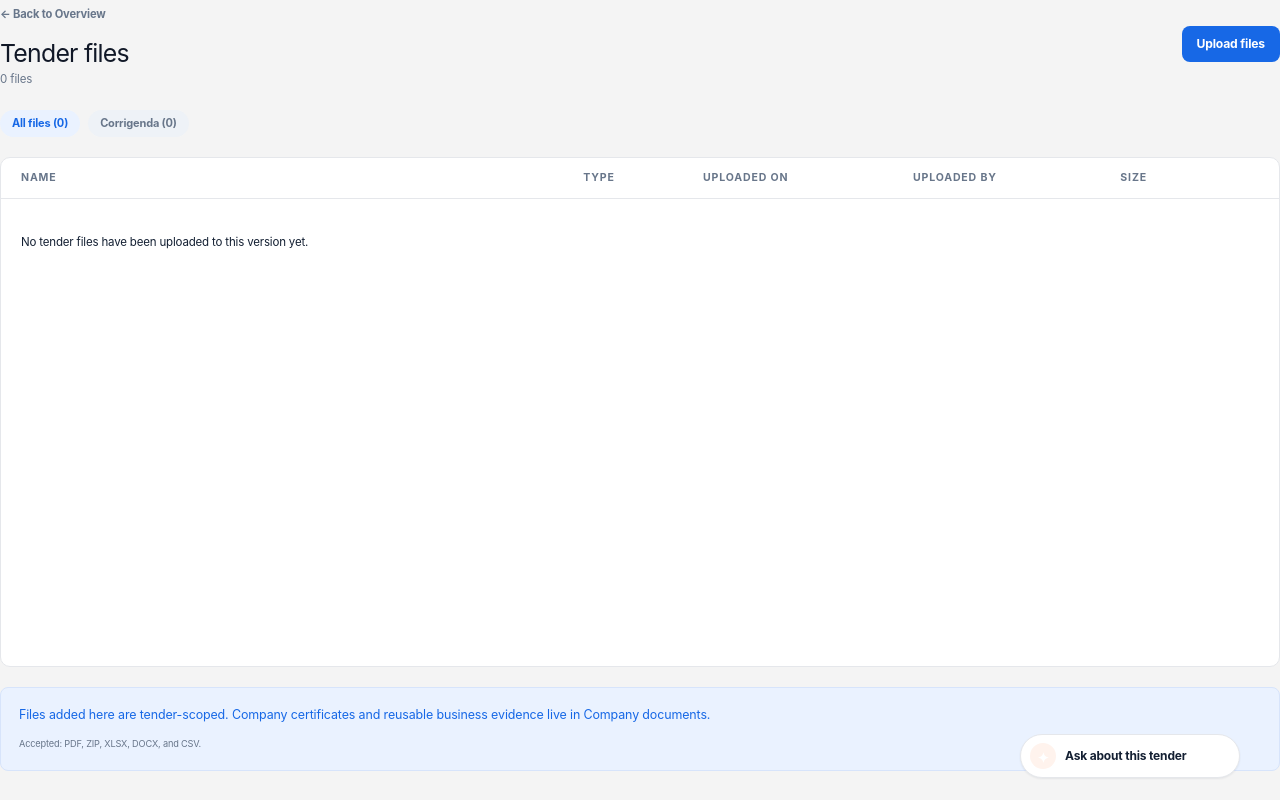
Test: tender workspace stages › maps legacy source routes into tender files
Expected: the heading "Tender files" is shown, [0,40,129,68]
Click the button "Upload files".
click(1231, 44)  # box [1182,26,1279,62]
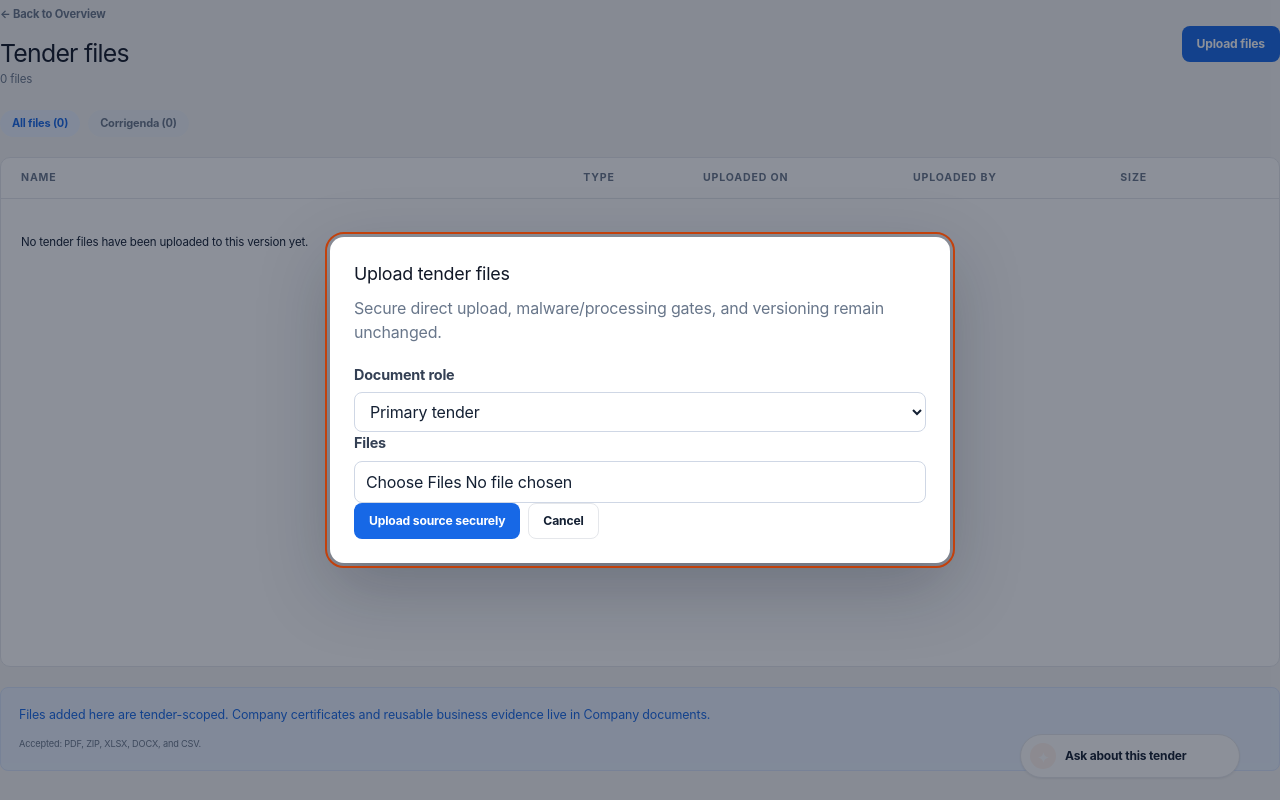
Expected: the button "Upload source securely" is shown, [354,503,520,539]
